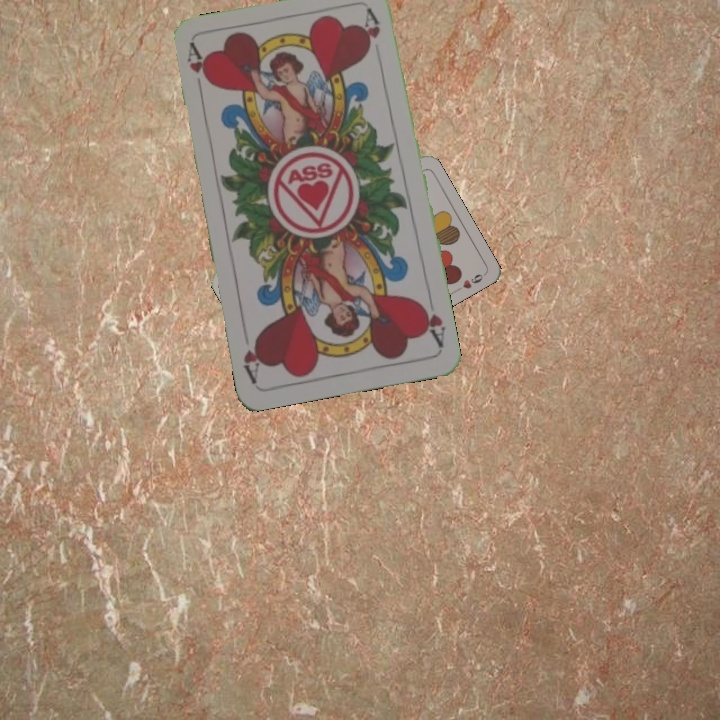HA: (415, 296, 448, 351), (182, 41, 214, 89)
